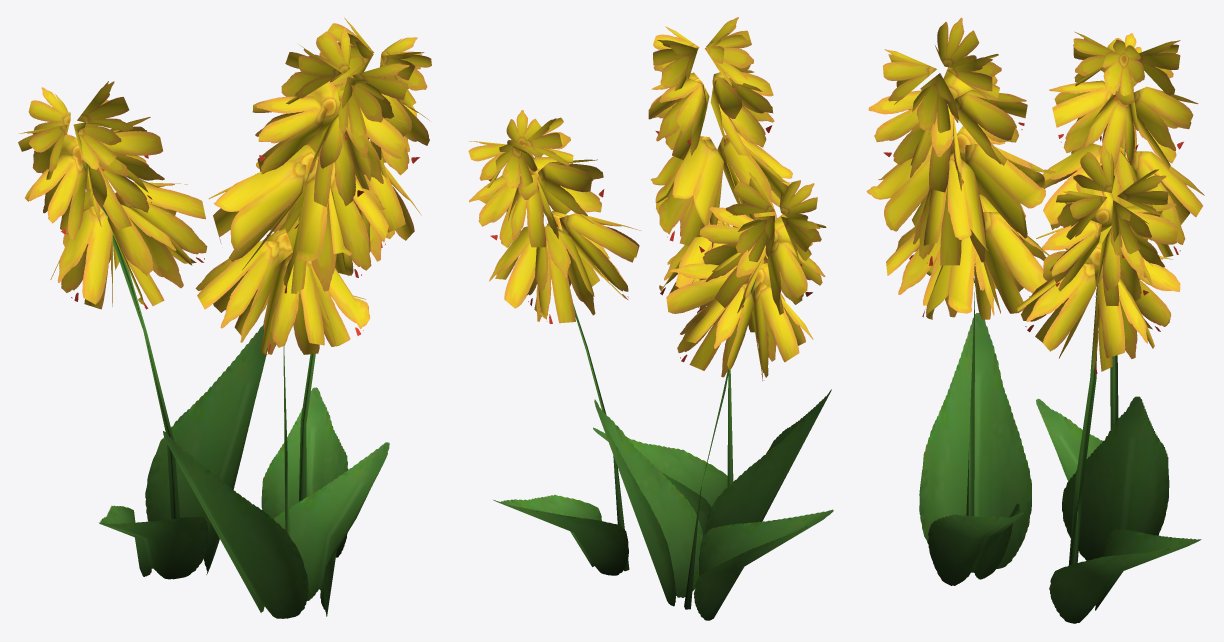
Rendered from Flower_4_Group.medium.gltf.
3 renders of one model, left to right at view 1: azimuth 30°, elevation 25°; view 2: azimuth 150°, elevation 25°; view 3: azimuth 270°, elevation 25°, orthographic. The views are drawn at different scales.
Parts seen in each view (by area): view 1: Flower_4_Group; view 2: Flower_4_Group; view 3: Flower_4_Group.
Part boxes in pixels (x1,y1,x2,y2): Flower_4_Group: (18, 17, 431, 618); Flower_4_Group: (468, 17, 833, 620); Flower_4_Group: (866, 17, 1204, 623).
Size of the model in its own units: 1.78 by 2.49 by 1.37.
Materials: 2 (2 with a texture image).
